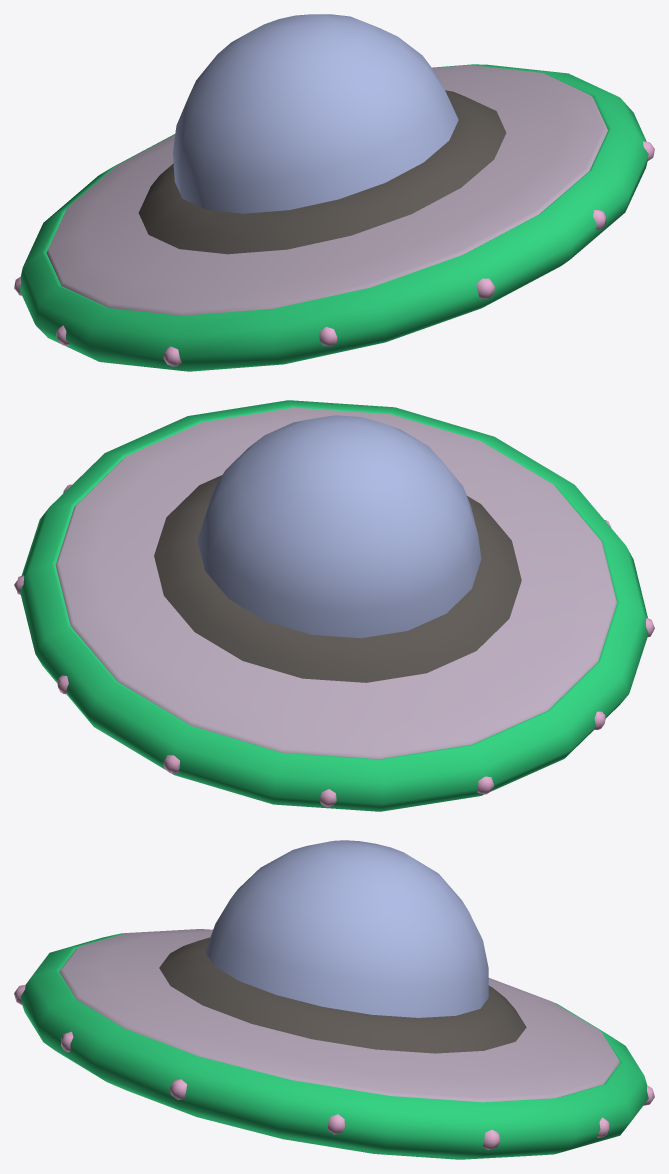
The model's file is Hat_11_03.fbx.
3 renders of one model, top to bottom at view 1: azimuth 30°, elevation 25°; view 2: azimuth 150°, elevation 25°; view 3: azimuth 270°, elevation 25°, orthographic. The views are drawn at different scales.
Visible parts, largest first — view 1: Hat_11_03; view 2: Hat_11_03; view 3: Hat_11_03.
Boxes of the visible parts, box(x1,y1,x2,y2) form: Hat_11_03: box(14, 14, 654, 371); Hat_11_03: box(14, 400, 654, 811); Hat_11_03: box(14, 840, 654, 1159).
Bounding box in the file's own units: 78.25 × 37.82 × 79.6.
